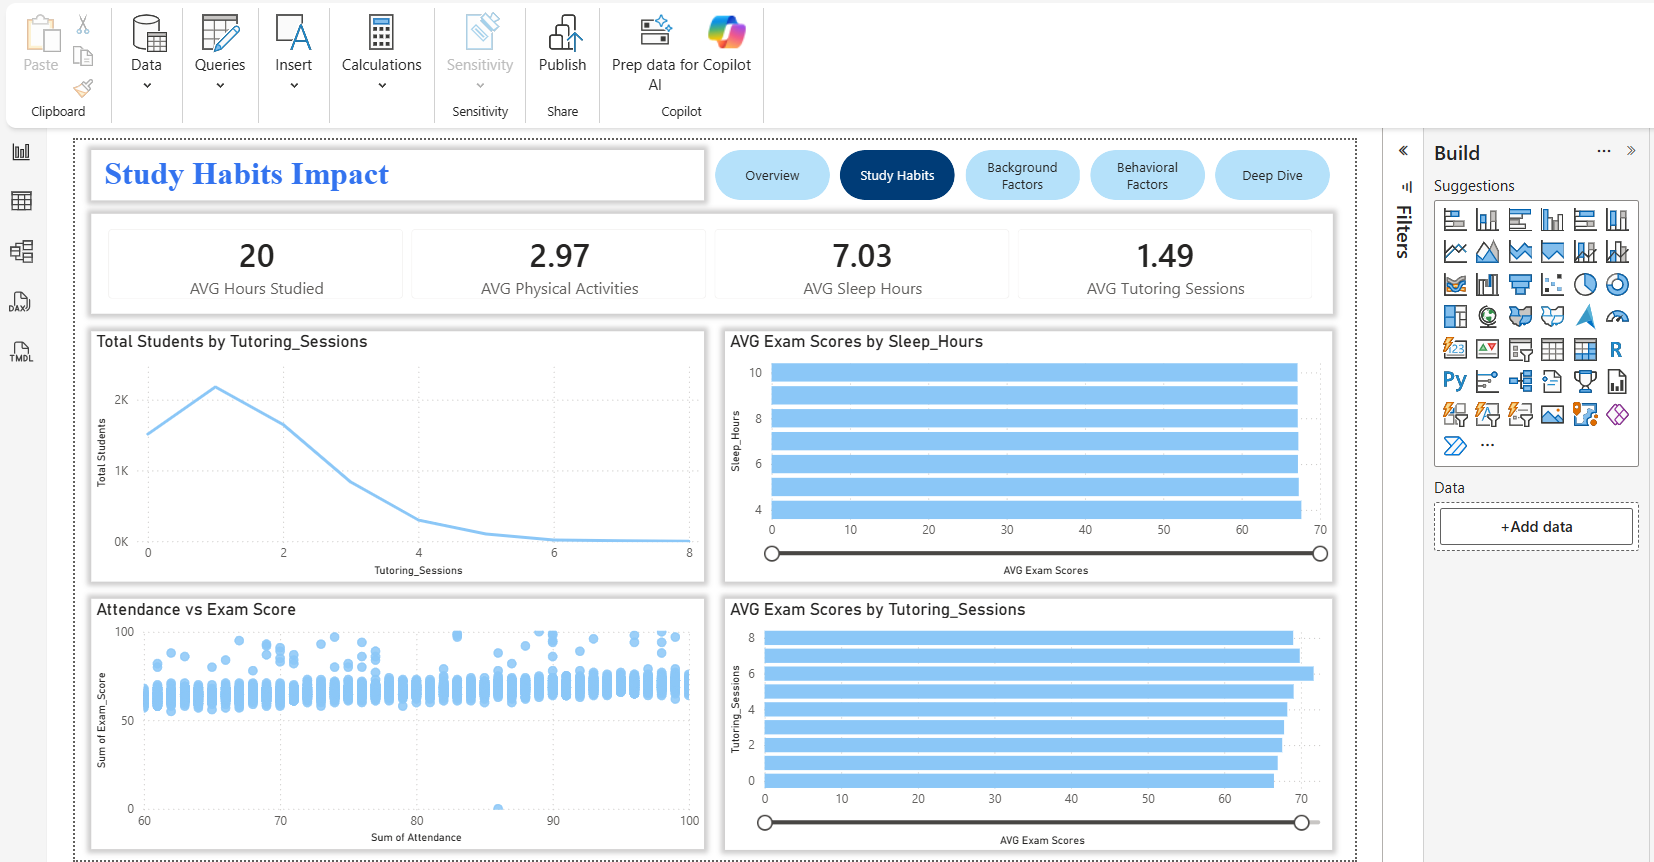

Layout of this report page (visuals, bound fields, positions):
{"tool":"powerbi","page":{"name":"Study Habits","canvas":[1280,720],"ordinal":1},"visuals":[{"type":"lineChart","fields":{"Y":["DataSet.Total Students"],"Category":["DataSet.Tutoring_Sessions"]},"box":[15.7,191.9,612.9,250],"z":0},{"type":"scatterChart","title":"Attendance vs Exam Score","fields":{"Category":["DataSet.Student ID"],"X":["Sum(DataSet.Attendance)"],"Y":["DataSet.Exam_Score"]},"box":[15.7,459,612.9,250],"z":1000},{"type":"clusteredBarChart","fields":{"Y":["DataSet.AVG Exam Scores"],"Category":["DataSet.Tutoring_Sessions"]},"box":[650,458.6,607.1,251.4],"z":2000},{"type":"clusteredBarChart","fields":{"Y":["DataSet.AVG Exam Scores"],"Category":["DataSet.Sleep_Hours"]},"box":[650,191.4,607.1,250],"z":3000},{"type":"textbox","box":[15.7,10,612.9,50],"z":4000},{"type":"cardVisual","fields":{"Data":["DataSet.AVG Hours Studied","DataSet.AVG Physical Activities","DataSet.AVG Sleep Hours","DataSet.AVG Tutoring Sessions"]},"box":[15.7,74.3,1241.4,100],"z":5000},{"type":"pageNavigator","box":[640,10,617.1,50],"z":6000}]}

Visuals, with their boxes on the page's 1280x720 design canvas (x1, y1, x2, y2). These are canvas units, not pixel positions in the 1654x862 screenshot, which may show the page scaled, cropped or inside an application window:
lineChart - DataSet.Total Students x DataSet.Tutoring_Sessions: {"x1": 16, "y1": 192, "x2": 629, "y2": 442}
"Attendance vs Exam Score" scatterChart: {"x1": 16, "y1": 459, "x2": 629, "y2": 709}
clusteredBarChart - DataSet.AVG Exam Scores x DataSet.Tutoring_Sessions: {"x1": 650, "y1": 459, "x2": 1257, "y2": 710}
clusteredBarChart - DataSet.AVG Exam Scores x DataSet.Sleep_Hours: {"x1": 650, "y1": 191, "x2": 1257, "y2": 441}
textbox: {"x1": 16, "y1": 10, "x2": 629, "y2": 60}
cardVisual - DataSet.AVG Hours Studied x DataSet.AVG Physical Activities: {"x1": 16, "y1": 74, "x2": 1257, "y2": 174}
pageNavigator: {"x1": 640, "y1": 10, "x2": 1257, "y2": 60}
